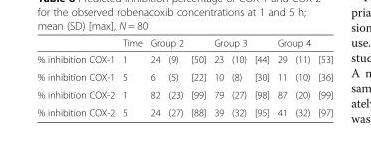table: (36, 36, 332, 117)
table column: (36, 36, 118, 117), (118, 36, 145, 117), (163, 36, 186, 117), (186, 36, 209, 117), (249, 36, 272, 117), (290, 36, 313, 117), (227, 36, 249, 117), (313, 36, 332, 117), (145, 36, 163, 117), (209, 36, 227, 117), (272, 36, 290, 117)
table column header: (36, 36, 332, 67)
table row: (36, 67, 332, 85), (36, 85, 332, 103), (36, 50, 332, 67), (36, 36, 332, 50), (36, 103, 332, 117)
table spanning cell: (36, 36, 118, 67), (145, 36, 209, 50), (209, 36, 272, 50), (272, 36, 332, 50), (118, 36, 145, 67)
